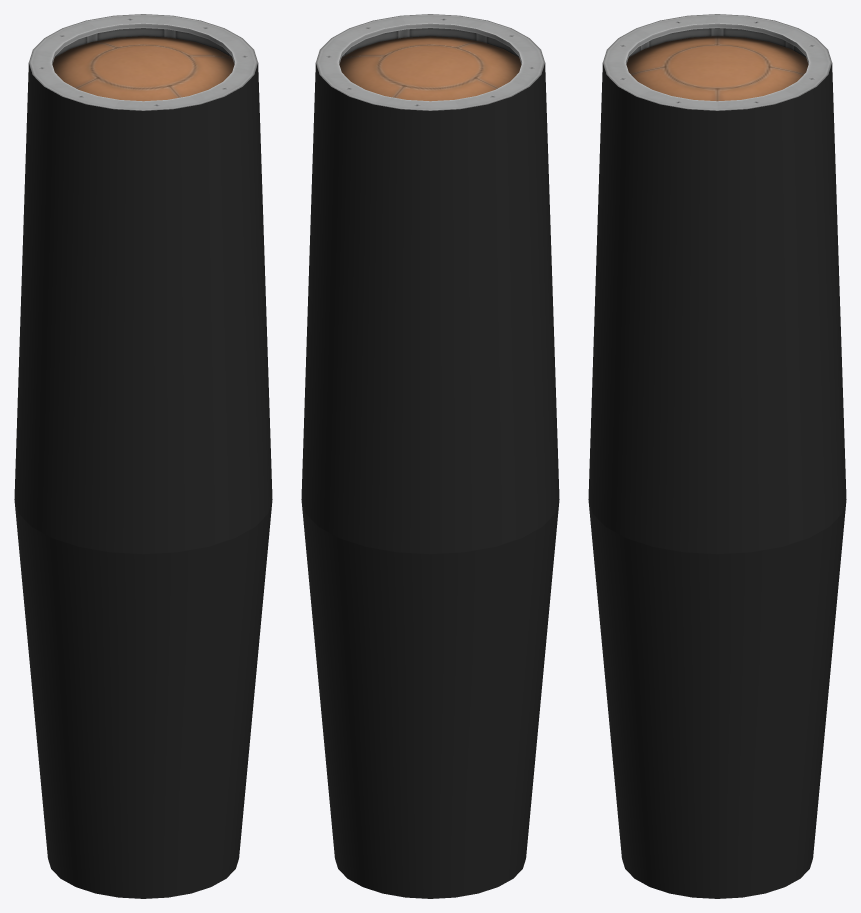
The model's file is TLV_1_LFO_2_E.obj.
3 renders of one model, left to right at view 1: azimuth 30°, elevation 25°; view 2: azimuth 150°, elevation 25°; view 3: azimuth 270°, elevation 25°, orthographic.
Parts seen in each view (by area): view 1: TLV_1_LFO_2_E; view 2: TLV_1_LFO_2_E; view 3: TLV_1_LFO_2_E.
Part boxes in pixels (box(x1,y1,x2,y2)): TLV_1_LFO_2_E: box(14, 14, 272, 898); TLV_1_LFO_2_E: box(301, 14, 559, 898); TLV_1_LFO_2_E: box(588, 14, 846, 898).
Size of the model in its own units: 1.69 by 5.74 by 1.69.
